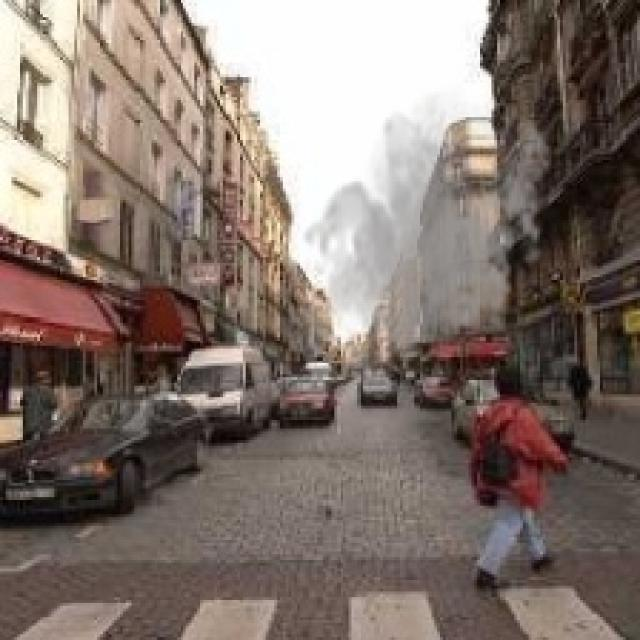smoke: (300, 83, 557, 366)
